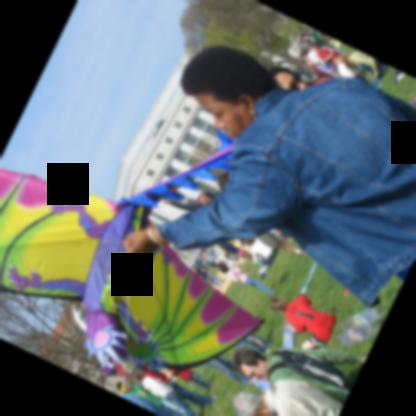backpack: (268, 350, 349, 387)
